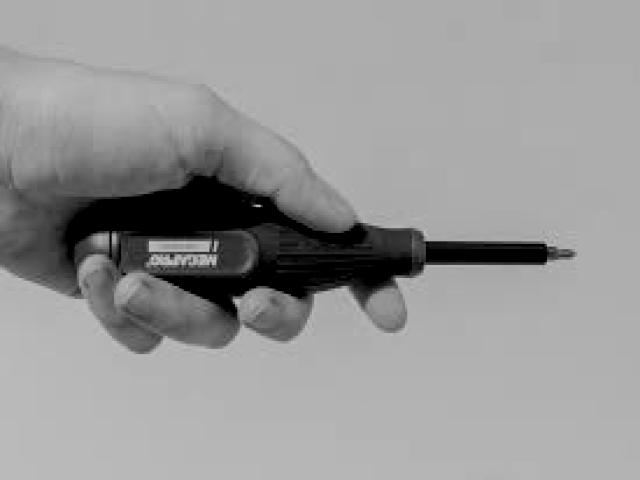Hand: (0, 48, 409, 351)
Screwdriver: (75, 199, 575, 297)
